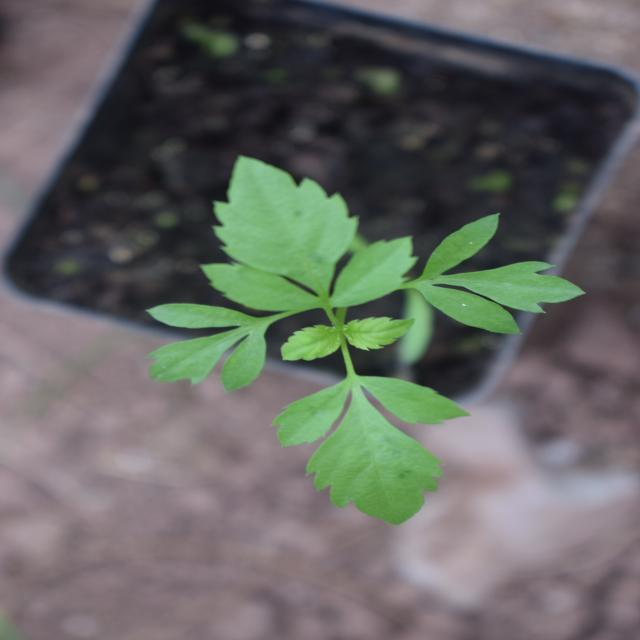Bidens pilosa: (125, 144, 474, 582)
